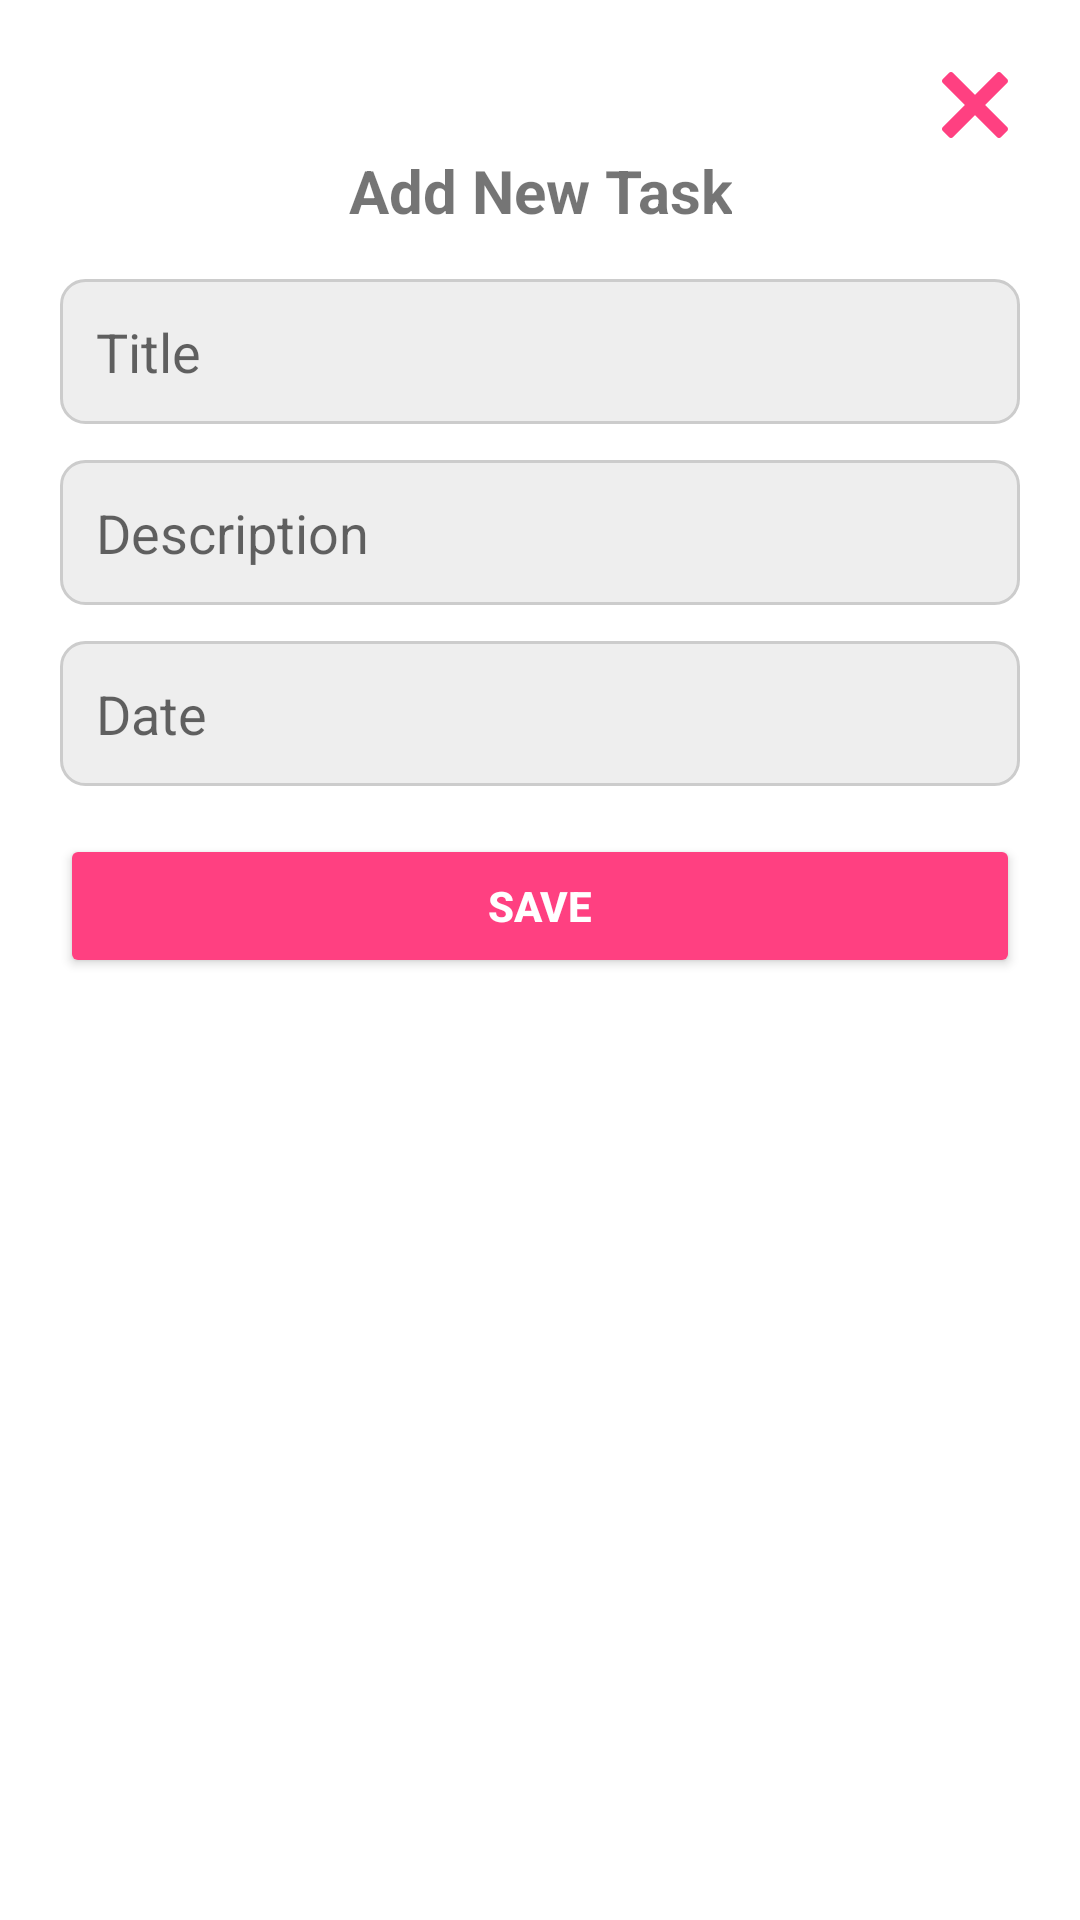

Where icons sit on this 1080px×1920px app screen, as (x1, y1, x2, y2):
Close: (942, 72, 1008, 138)
